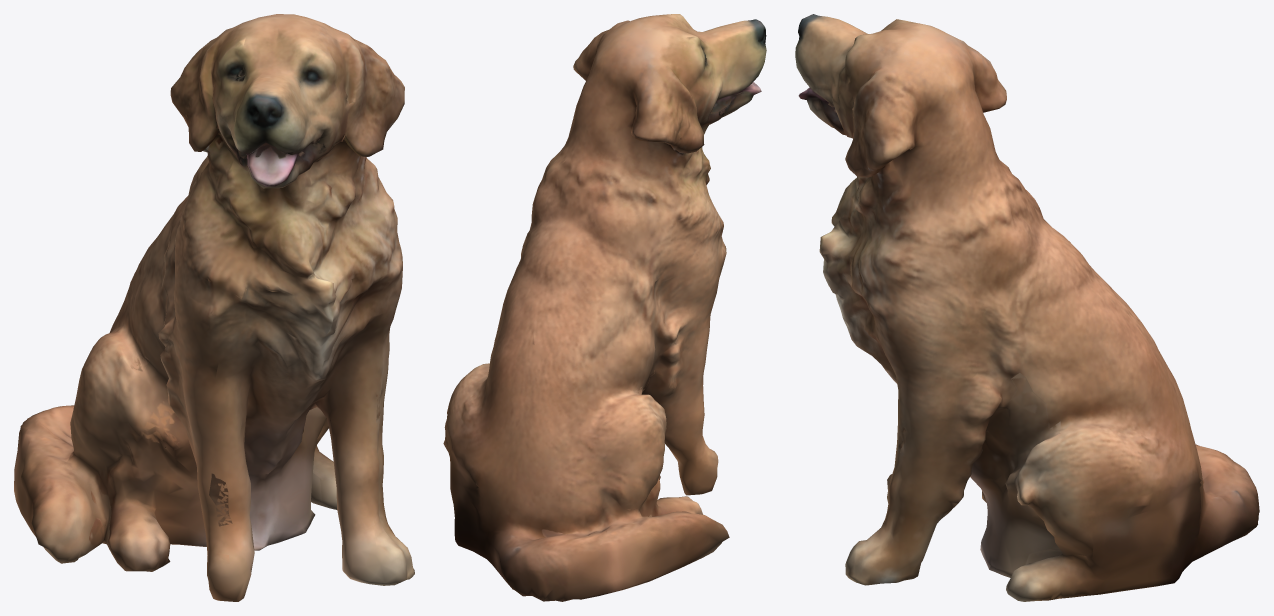
The model's file is golden_retriever_sitting.glb.
The picture shows the model from 3 angles, left to right: view 1: azimuth 30°, elevation 25°; view 2: azimuth 150°, elevation 25°; view 3: azimuth 270°, elevation 25°; orthographic projection. The views are drawn at different scales.
Visible parts, largest first — view 1: geo1; view 2: geo1; view 3: geo1.
Part boxes in pixels (box(x1,y1,x2,y2)): geo1: box(14, 14, 414, 601); geo1: box(443, 14, 766, 601); geo1: box(795, 14, 1259, 601).
Size of the model in its own units: 0.3232 by 0.5481 by 0.4511.
Materials: 1 (1 with a texture image).
